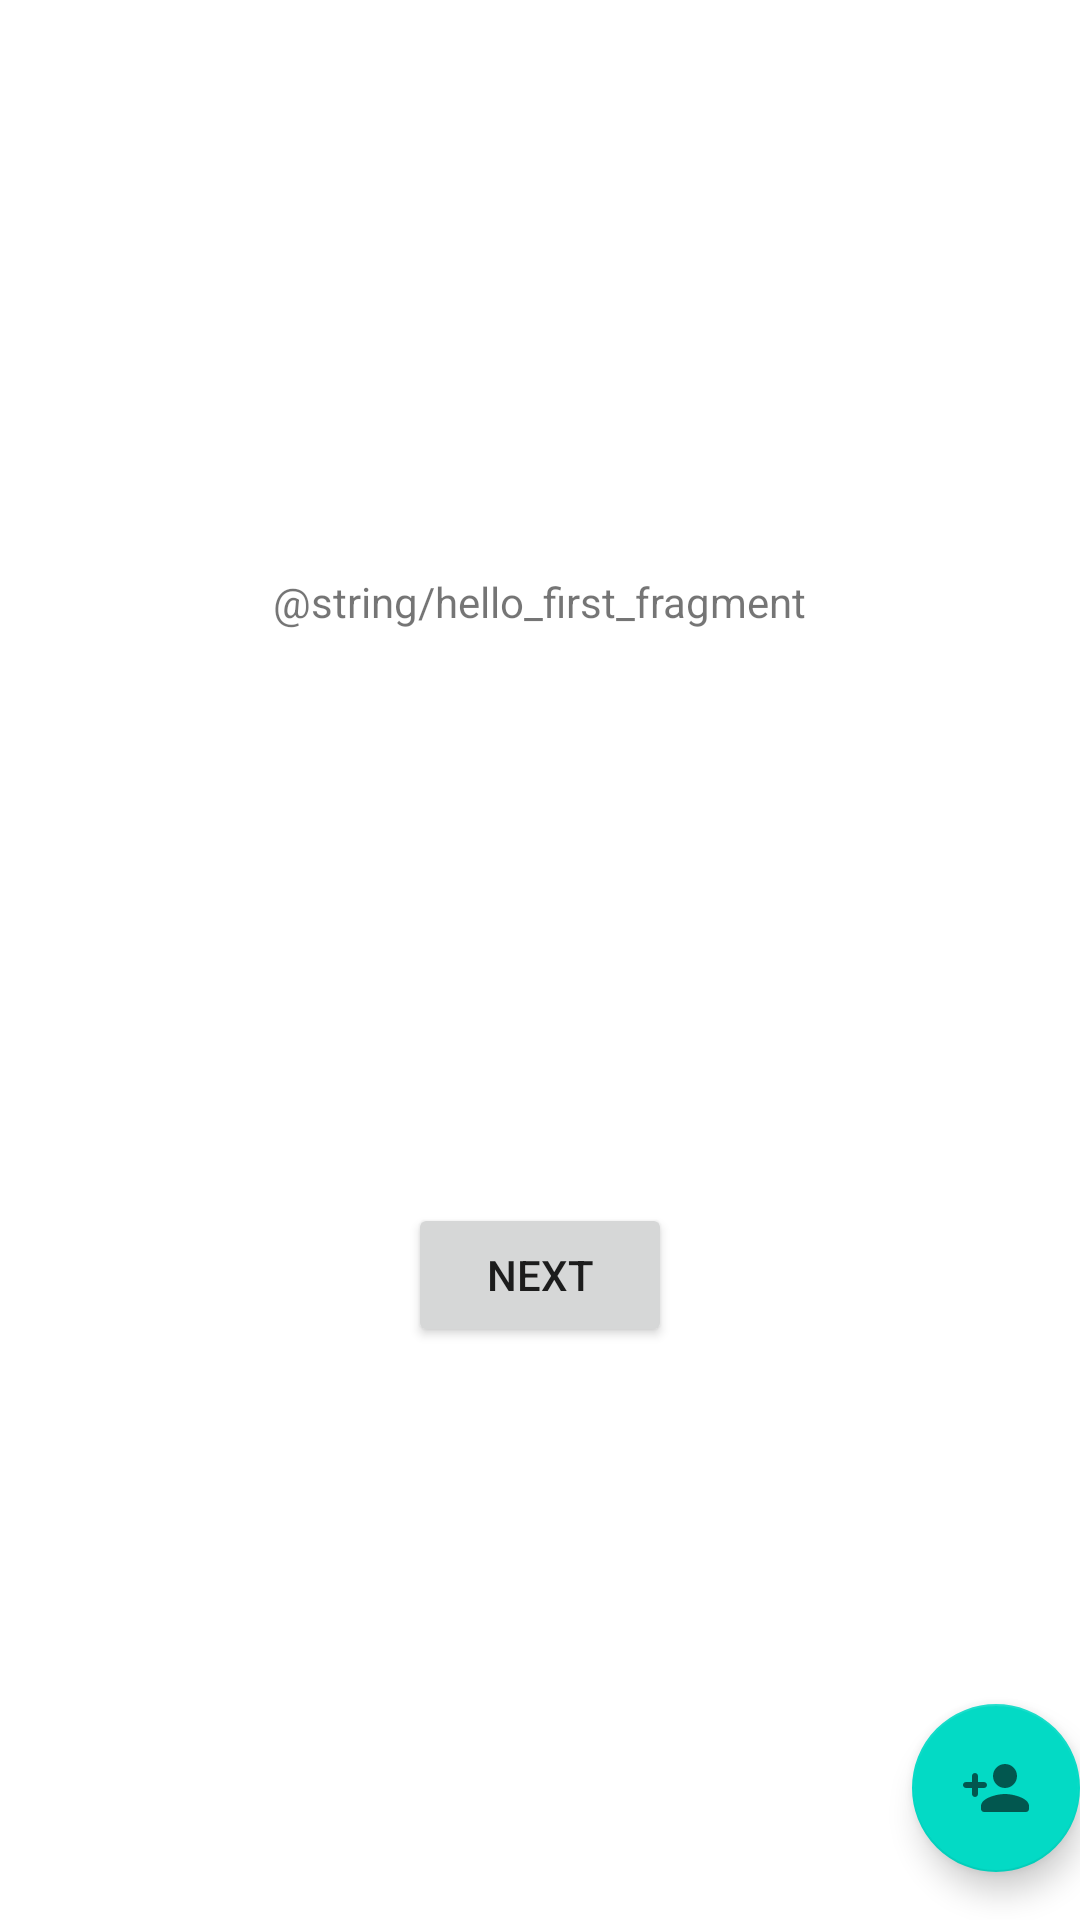

Point at icon controls on the screen. Image size 1080w x 1920h, points as (x=x, y=y).
Add Contact: (x=996, y=1788)
